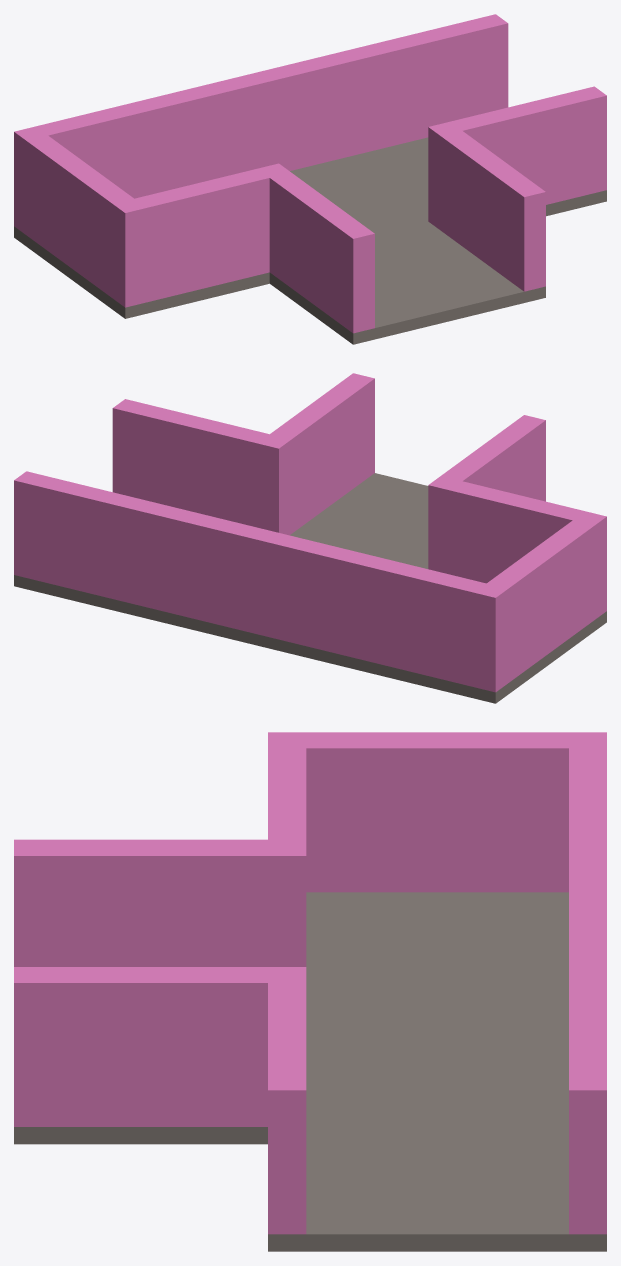
The model's file is T_Way_cap1_sideB.fbx.
The picture shows the model from 3 angles, top to bottom: view 1: azimuth 30°, elevation 25°; view 2: azimuth 150°, elevation 25°; view 3: azimuth 270°, elevation 25°; orthographic projection. The views are drawn at different scales.
Visible parts, largest first — view 1: T_hallWay_cap1_sideB; view 2: T_hallWay_cap1_sideB; view 3: T_hallWay_cap1_sideB.
Part boxes in pixels (x1=…): T_hallWay_cap1_sideB: x1=14, y1=14, x2=606, y2=344; T_hallWay_cap1_sideB: x1=14, y1=373, x2=606, y2=703; T_hallWay_cap1_sideB: x1=14, y1=732, x2=606, y2=1251.
Size of the model in its own units: 2000 by 420 by 1400.
